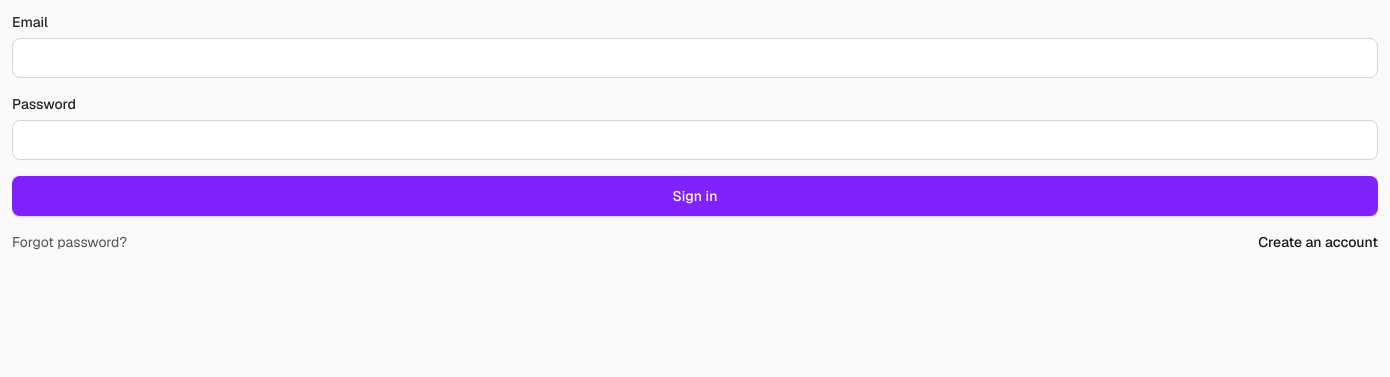
it: LoginForm › offers to resend the verification email for unverified accounts
Type "new@example.com" into the field labelled "Email".
click(695, 58); type("new@example.com")  # box [12, 38, 1378, 78]
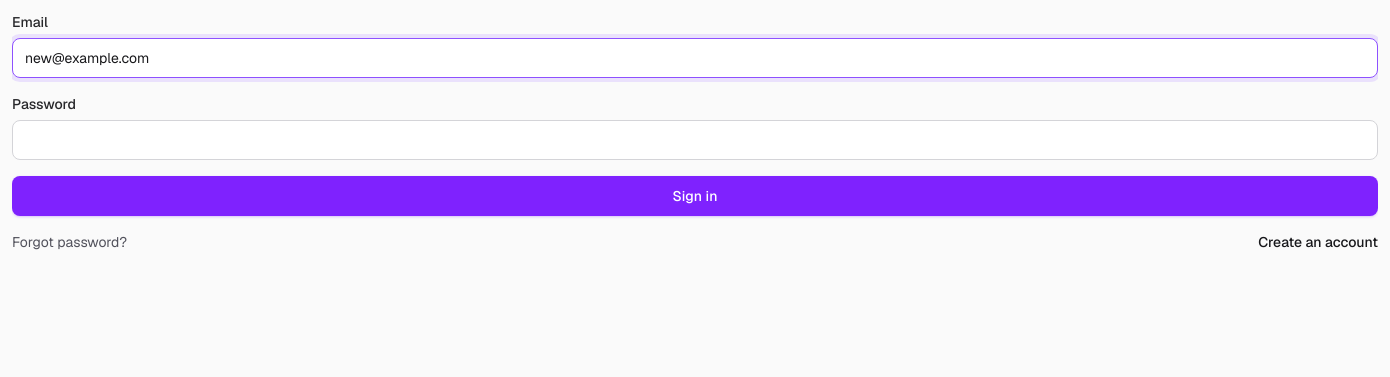
Type "secret passphrase" into the password field labelled "Password".
click(695, 140); type("secret passphrase")  # box [12, 120, 1378, 160]
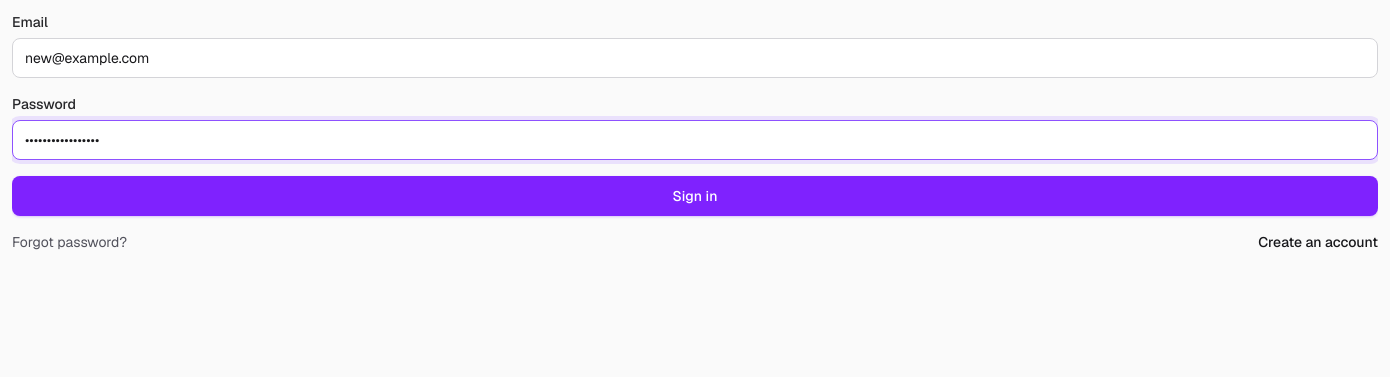
Click the button "Sign in".
click(695, 196)  # box [12, 176, 1378, 216]
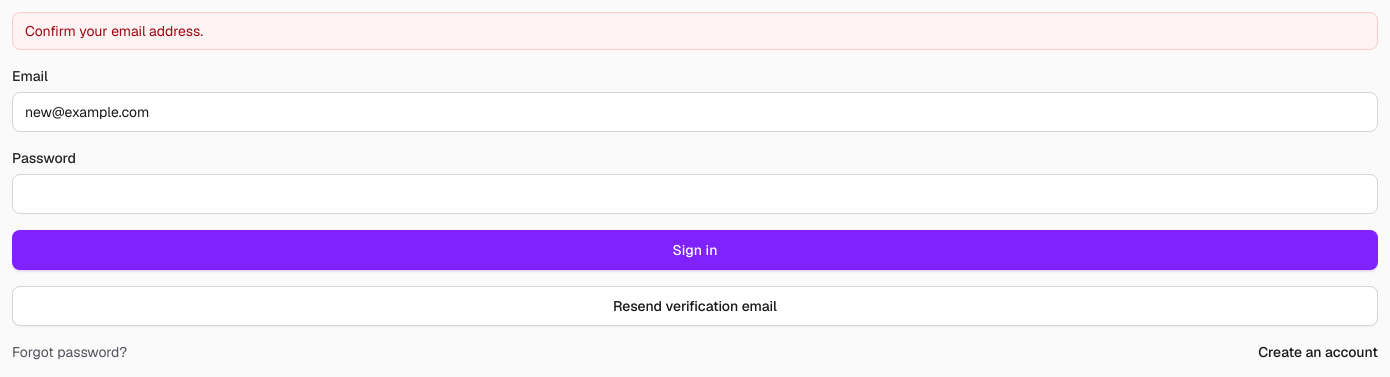
Click the button "Resend verification email".
click(695, 306)  # box [12, 286, 1378, 326]
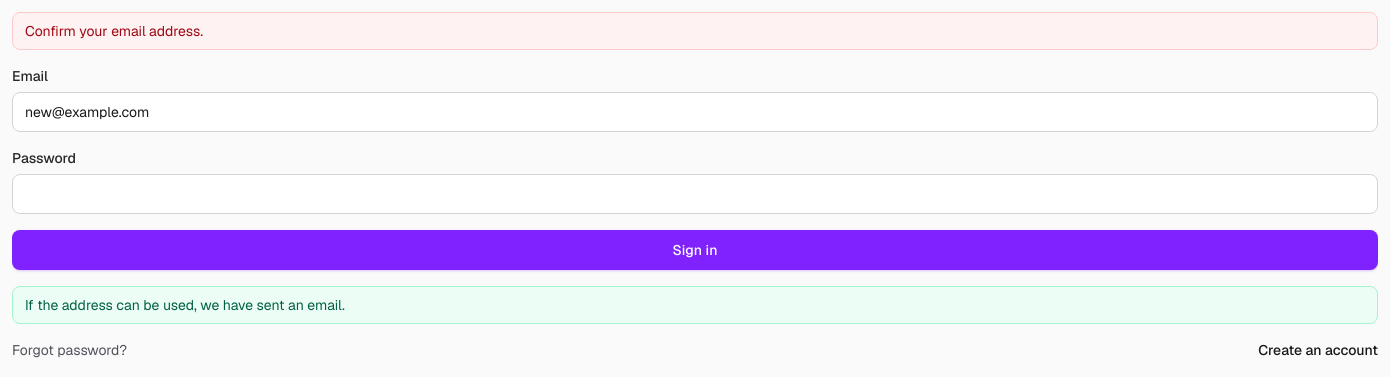
Expected: the text "If the address can be used, we have sent an email." is shown, [12, 286, 1378, 324]
